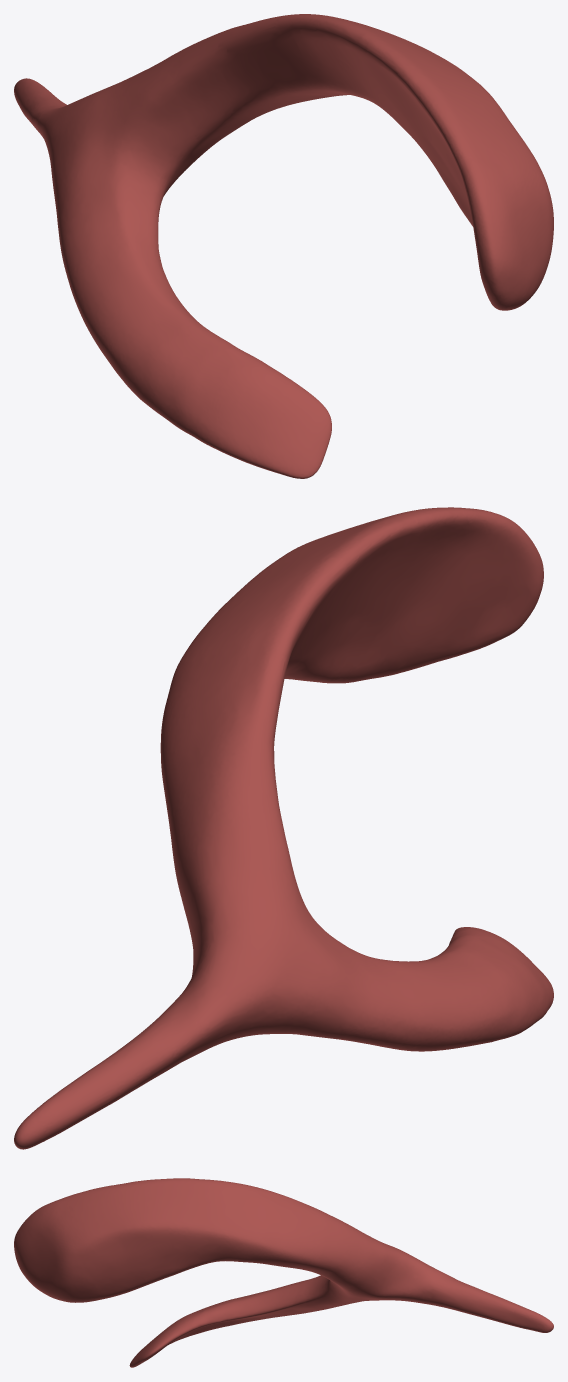
Rendered from FMA78449.glb.
The picture shows the model from 3 angles, top to bottom: view 1: azimuth 30°, elevation 25°; view 2: azimuth 150°, elevation 25°; view 3: azimuth 270°, elevation 25°; orthographic projection. The views are drawn at different scales.
Visible parts, largest first — view 1: FMA78449; view 2: FMA78449; view 3: FMA78449.
Part boxes in pixels (x1,y1,x2,y2): FMA78449: [14, 14, 553, 478]; FMA78449: [14, 507, 553, 1149]; FMA78449: [14, 1178, 553, 1367].
Size of the model in its own units: 0.0364 by 0.0463 by 0.1031.
